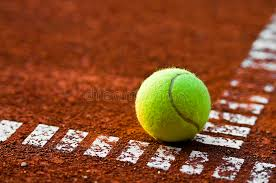tennis_ball: (134, 66, 211, 143)
